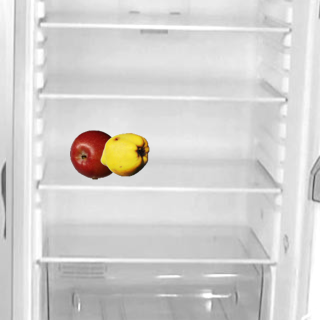Apple Braeburn: (69, 129, 119, 179)
Quince: (99, 129, 149, 179)
